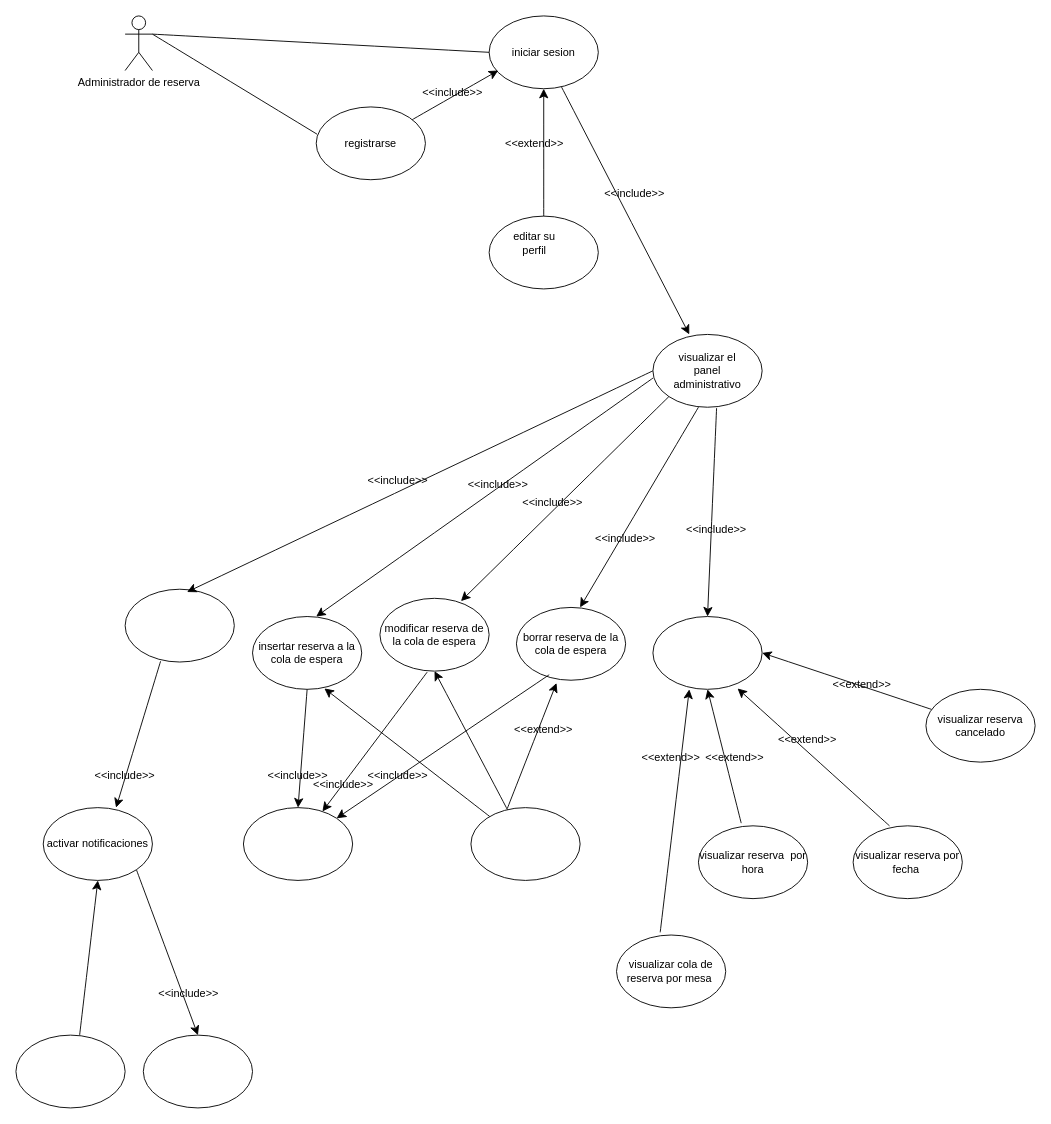
Some shapes in this 1051 by 1124 pixel diagram are drawn without their labels. The centre of each missing label's shape, as x and y in pixels:
"finalizar proceso" goes at point (298, 843).
"Generar notificaciones de confirmación" goes at point (197, 1071).
"Generar notificaciones de promociones" goes at point (70, 1071).
"Programar notificaciones" goes at point (179, 625).
"Verificar datos de reserva" goes at point (525, 843).
"visualizar historial reserva" goes at point (707, 652).
